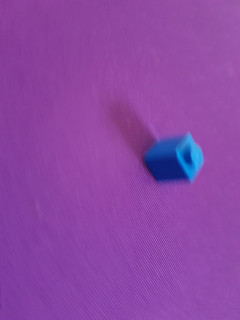1x1 blue: (138, 128, 207, 186)
